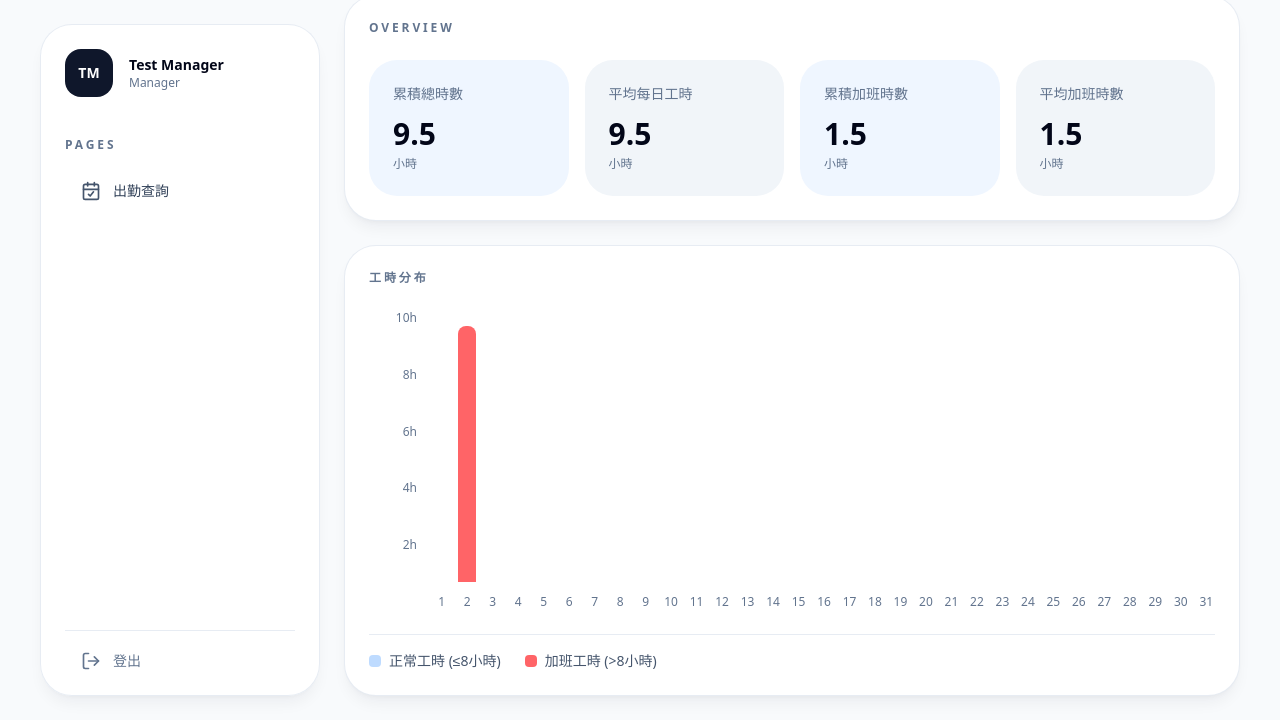
Test case: EmployeeViewPage › opens the access records modal when a day bar is clicked
(page scrolled)
Click the button titled "2026-05-02: 9.5h": (467, 454) [458,326,476,582]
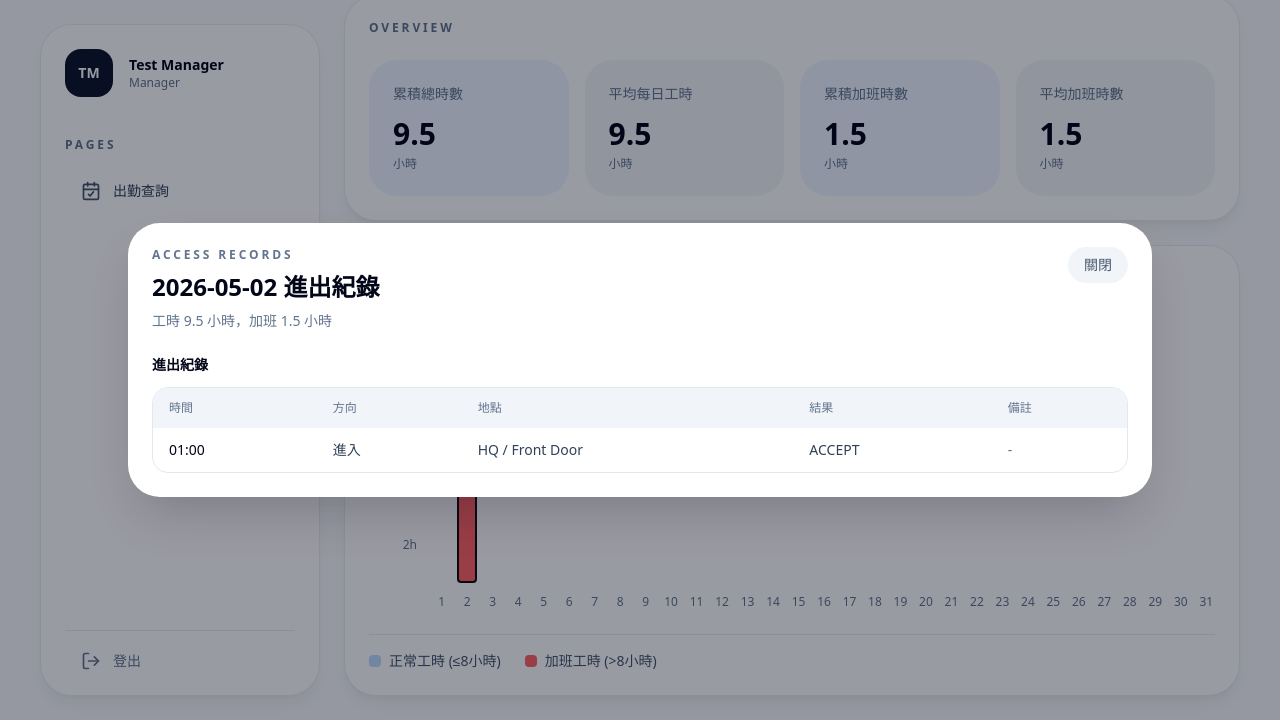
Expected: the heading "2026-05-02 進出紀錄" is shown, [152,271,380,303]
Expected: the text "HQ / Front Door" is shown, [462,428,793,472]
